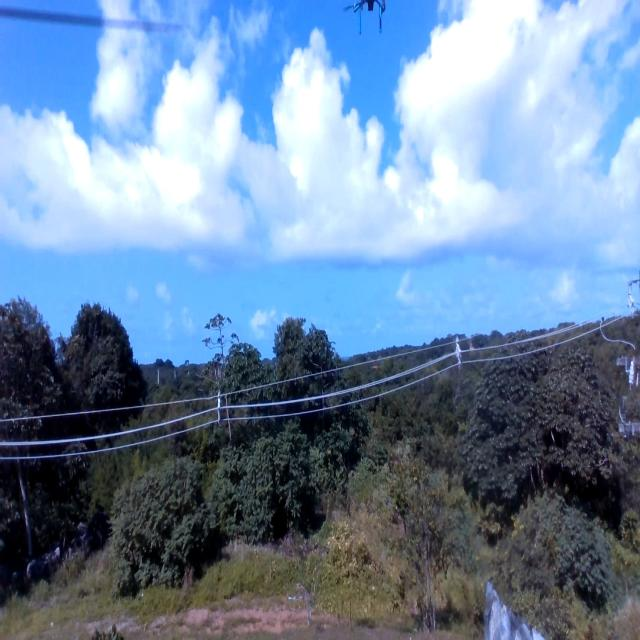-uav-: (346, 0, 396, 46)
